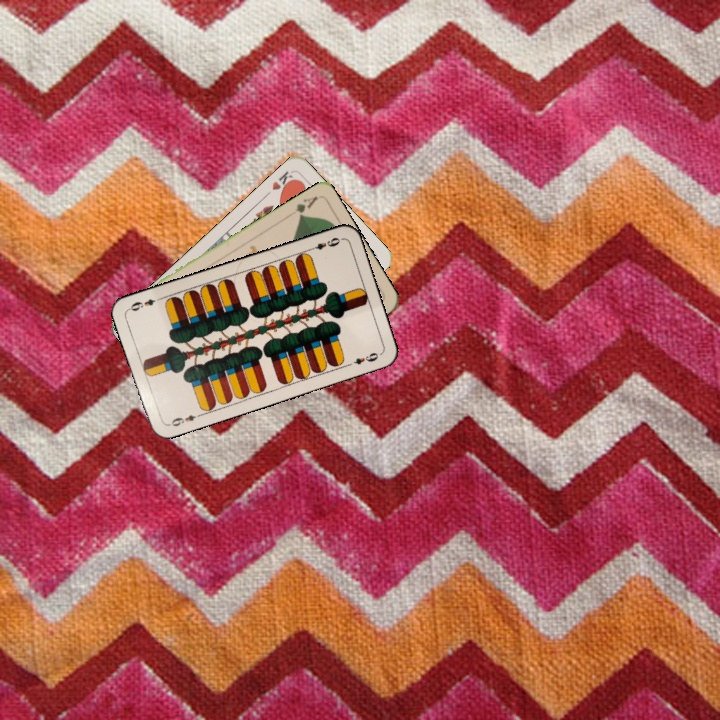E9: (305, 233, 343, 254), (164, 409, 203, 429)
GA: (291, 192, 321, 220)
HK: (268, 167, 298, 195)
